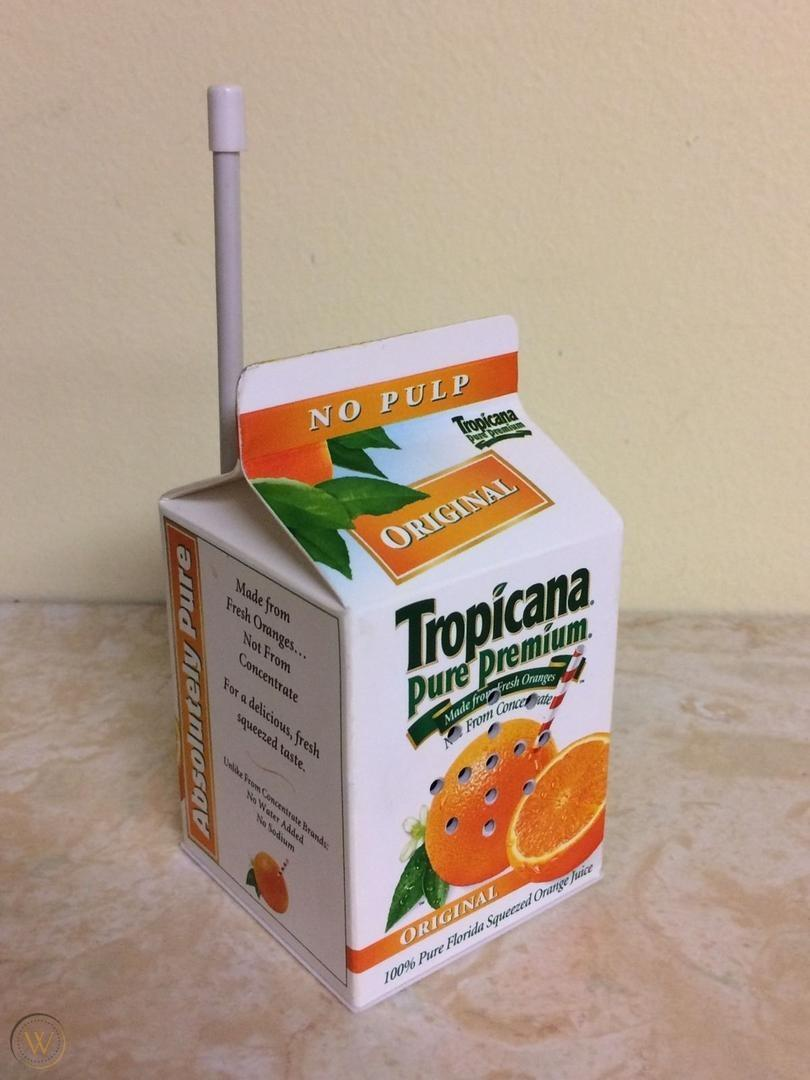cardboard: (152, 312, 632, 1010)
